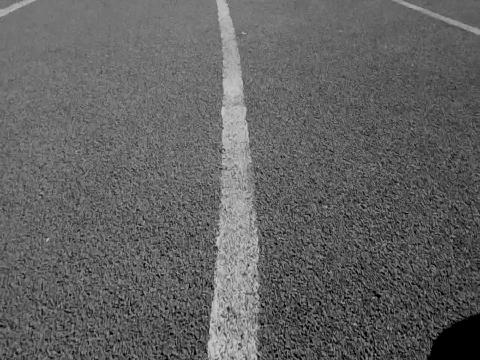Lines: (207, 0, 259, 360)
